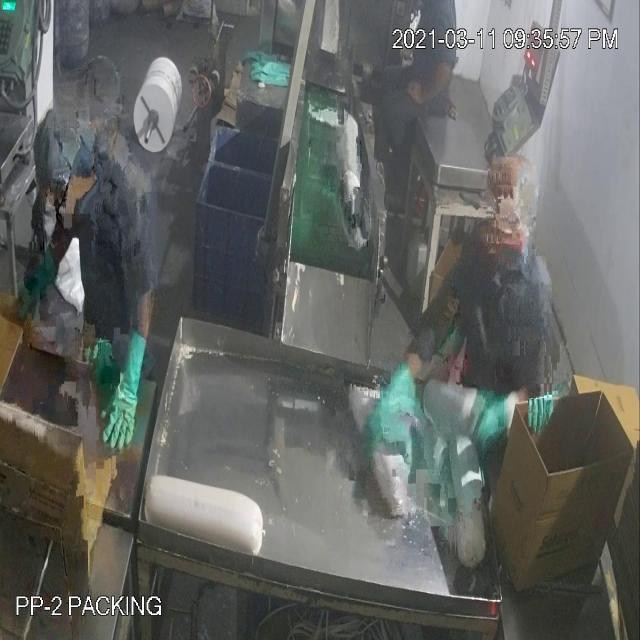No_Gloves: (408, 54, 457, 118)
